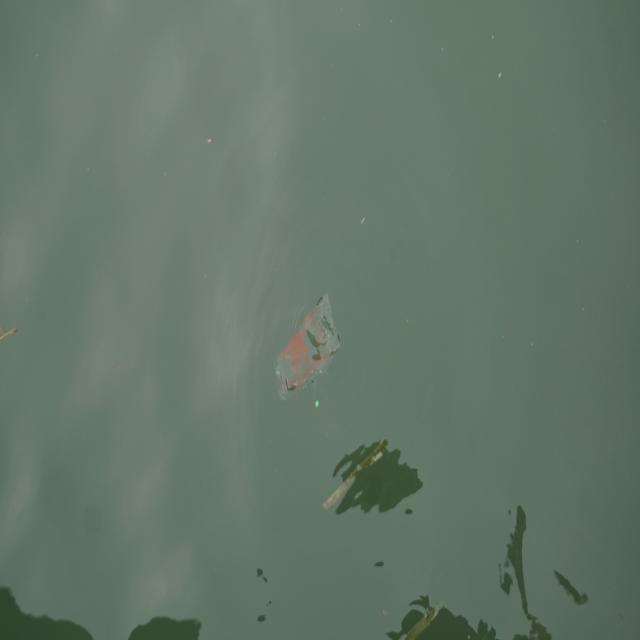Bungkus Makanan: (272, 287, 343, 410)
